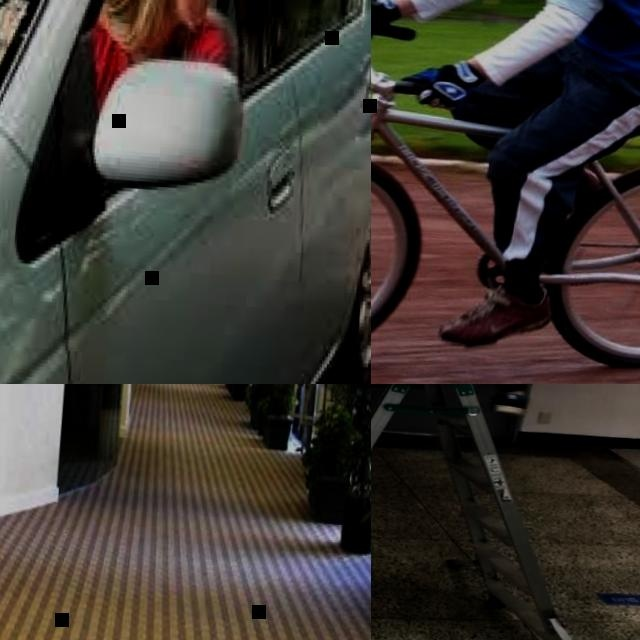NO-Mask: (165, 0, 210, 29)
NO-Safety Vest: (472, 0, 640, 95)
Person: (371, 0, 640, 368), (0, 0, 244, 115), (371, 384, 546, 499)
vehicle: (0, 0, 371, 384)
